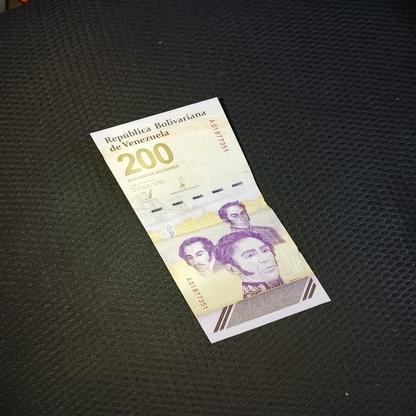two_hundred-front-vef: (89, 96, 331, 344)
